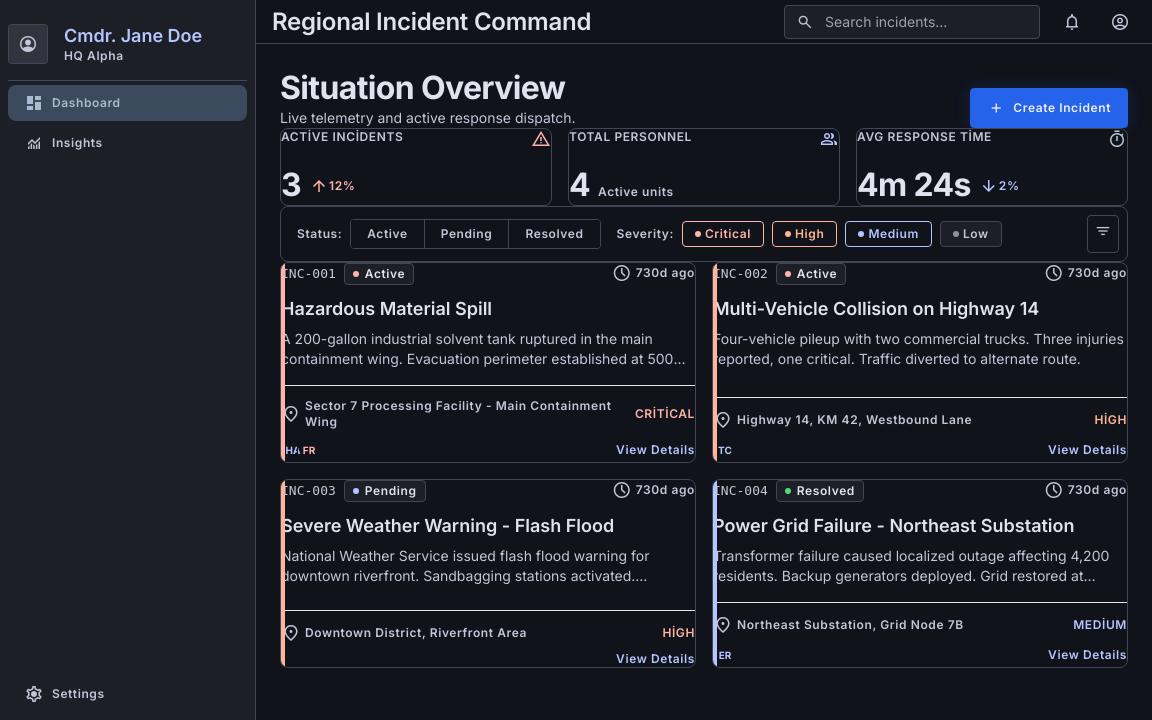
CommandDashboard › filters incidents by severity
Expected: the heading "Hazardous Material Spill" is shown, [281,298,492,319]
Click the button "Critical".
click(723, 234)  # box [682,221,764,247]
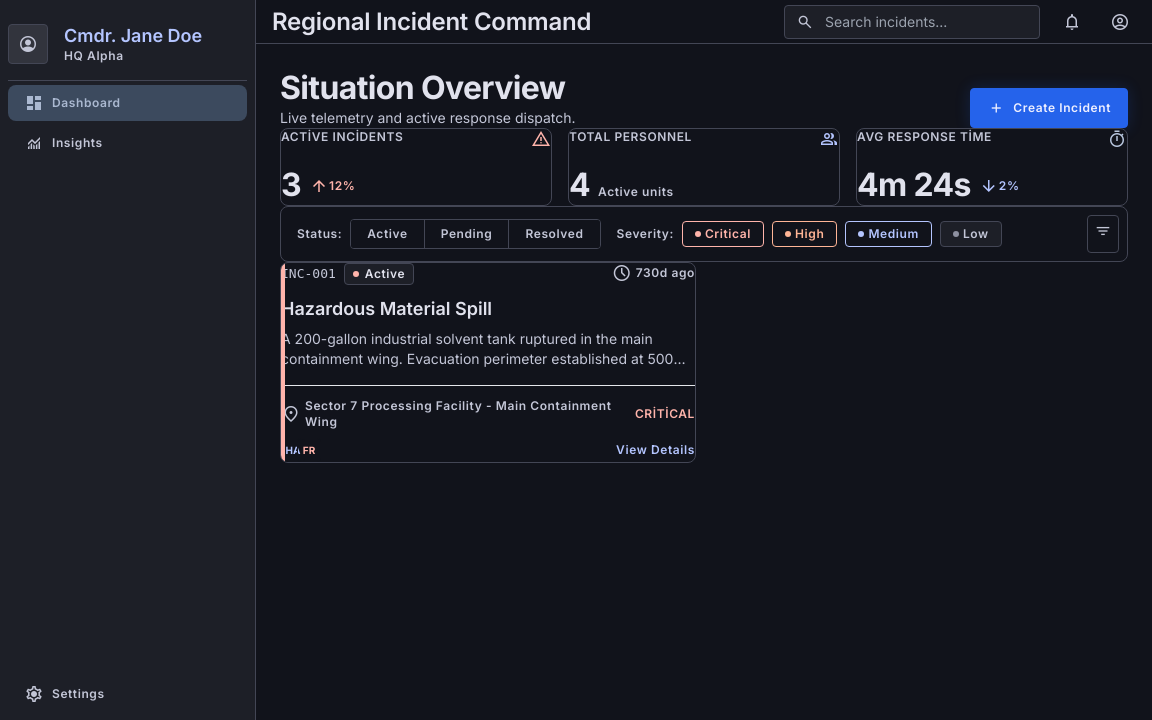
Expected: the heading "Hazardous Material Spill" is shown, [281,298,492,319]
Expected: the heading "Multi-Vehicle Collision on Highway 14" is gone
